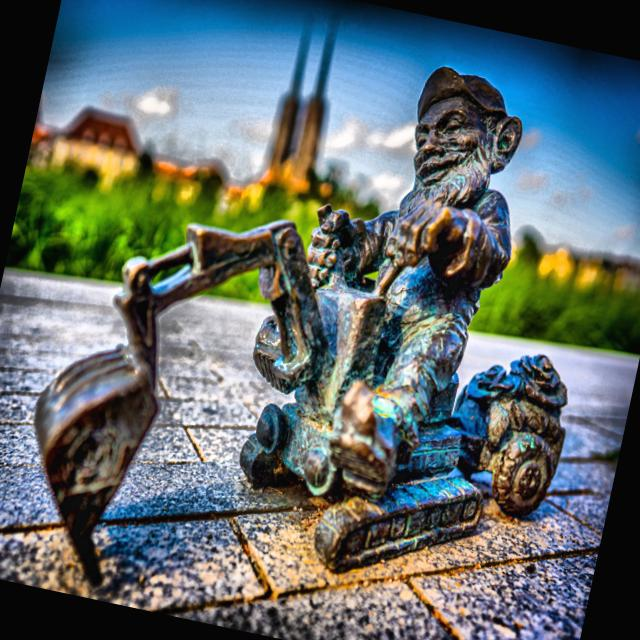Koparkus: (35, 68, 566, 582)
